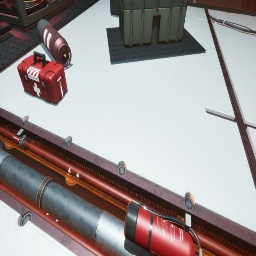FireExtinguisher ]: (124, 200, 203, 256)
FirstAidBox ,: (17, 51, 68, 104)
NitrogenTank ,: (37, 19, 72, 67)
